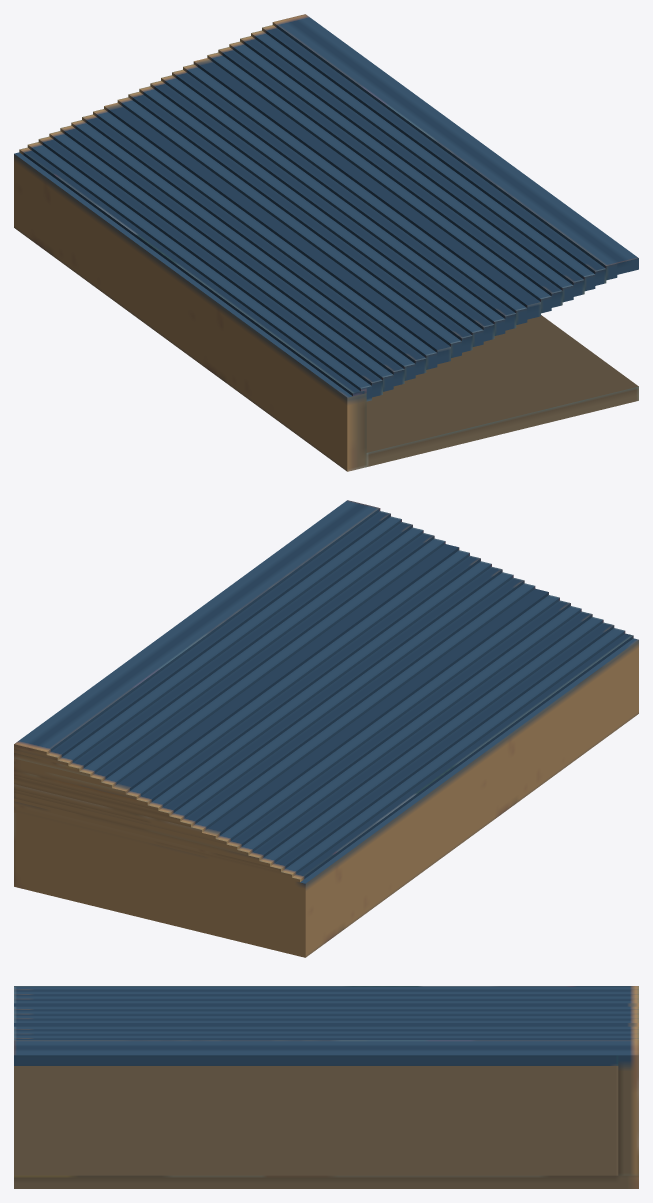
Rendered from Roof_B_00.fbx.
3 renders of one model, top to bottom at view 1: azimuth 30°, elevation 25°; view 2: azimuth 150°, elevation 25°; view 3: azimuth 270°, elevation 25°, orthographic. The views are drawn at different scales.
Visible parts, largest first — view 1: Roof_B_00; view 2: Roof_B_00; view 3: Roof_B_00.
Part boxes in pixels (x1=…): Roof_B_00: x1=14, y1=14, x2=638, y2=471; Roof_B_00: x1=14, y1=500, x2=638, y2=957; Roof_B_00: x1=14, y1=986, x2=638, y2=1188.
Bounding box in the file's own units: 535 × 1060 × 250.
Materials: 1 (1 with a texture image).
